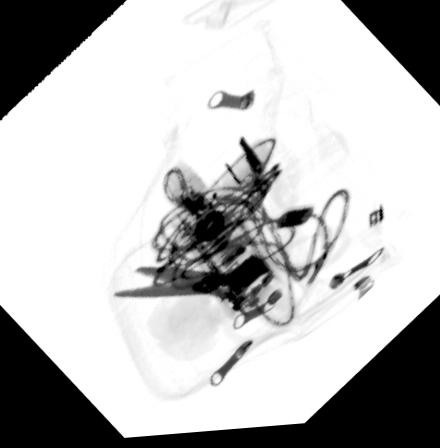Scissors: (109, 239, 301, 334)
